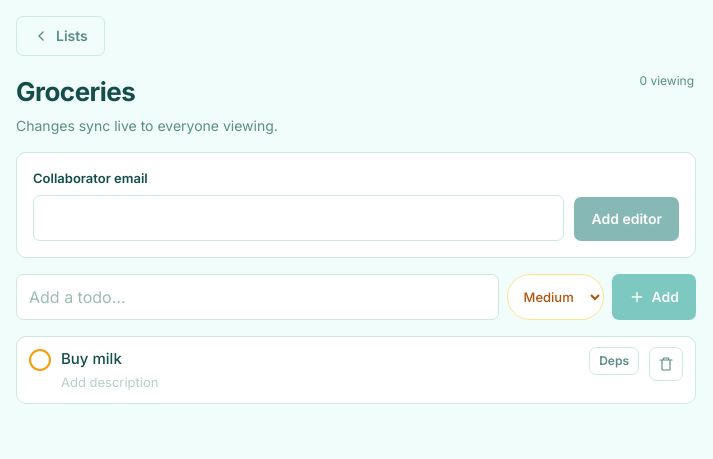
Scenario: ListDetail › restores confirmed text and keeps the original alert after autosave failure
Replace the text in the field named "Todo name" with "Draft name". click: [320, 359]
box: [61, 346, 579, 371]
Wait 450 ms
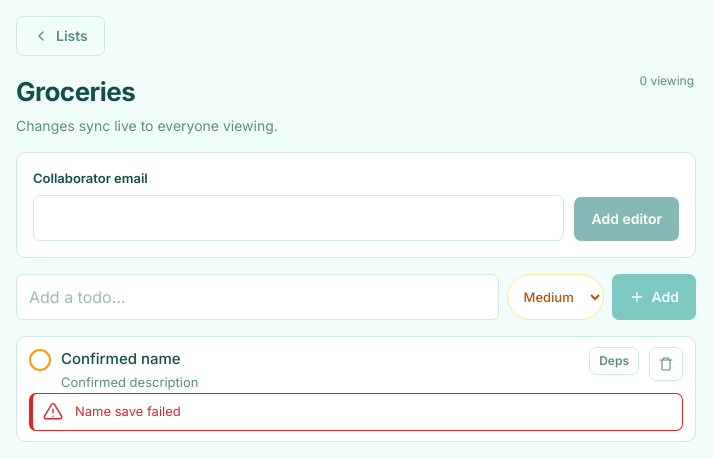
Expected: the field named "Todo name" holds "Confirmed name", [61, 346, 579, 371]
Expected: the field named "description" holds "Confirmed description", [61, 373, 579, 392]
Expected: the message reads "Name save failed", [75, 403, 181, 419]
